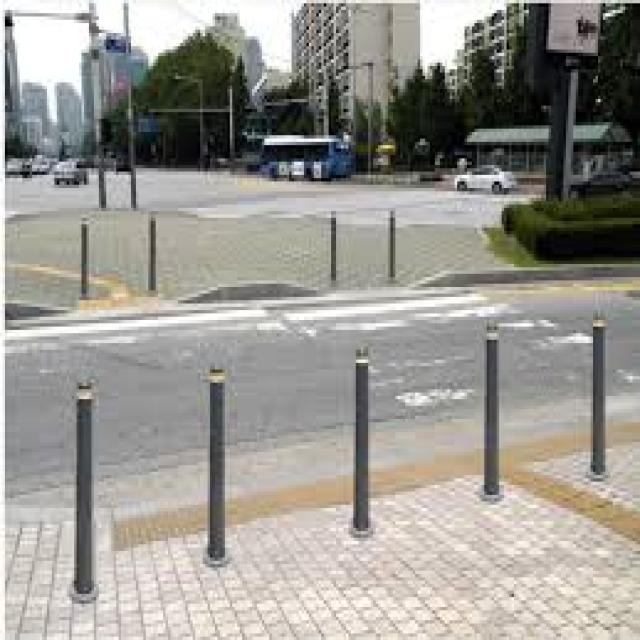bollard: (66, 370, 102, 610), (199, 357, 237, 570), (349, 339, 378, 543), (478, 315, 509, 505), (584, 313, 615, 490), (76, 212, 96, 300), (385, 204, 402, 282), (147, 218, 162, 297), (327, 205, 339, 288)
